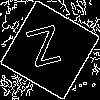Z: (25, 25, 66, 77)
